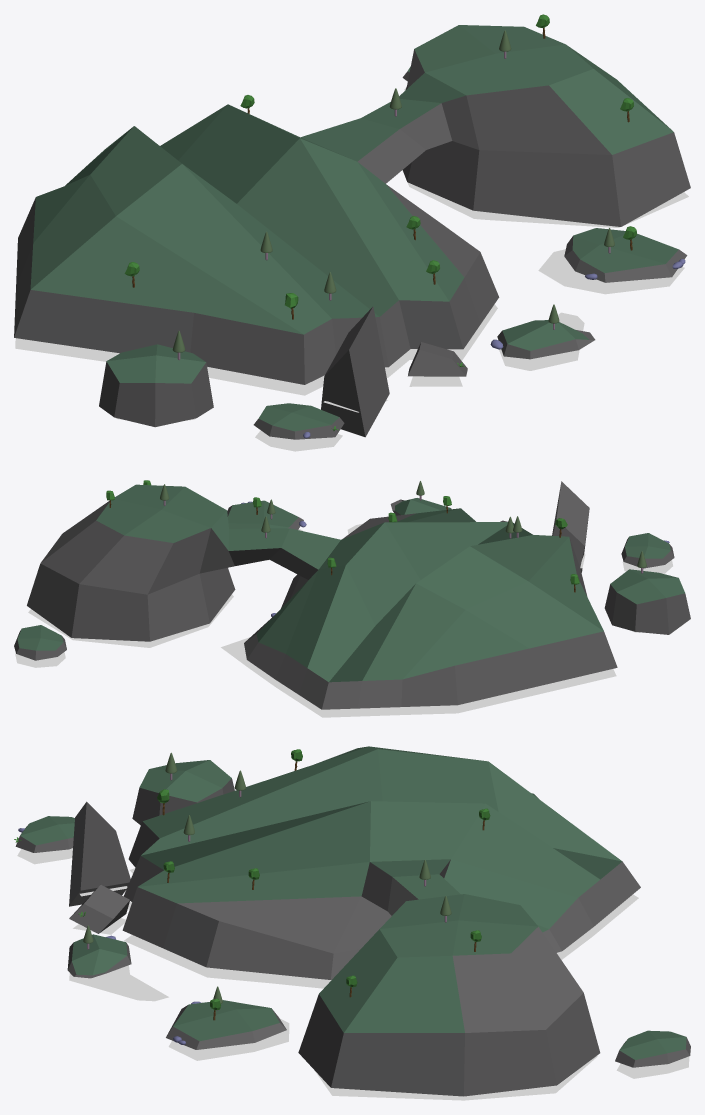
File: island5.glb
The picture shows the model from 3 angles, top to bottom: view 1: azimuth 30°, elevation 25°; view 2: azimuth 150°, elevation 25°; view 3: azimuth 270°, elevation 25°; orthographic projection. The views are drawn at different scales.
Parts seen in each view (by area): view 1: island5, island5__hit; view 2: island5, island5__hit; view 3: island5, island5__hit.
Boxes of the visible parts, left/top/right/bottom form: island5: left=14, top=25, right=690, bottom=439; island5__hit: left=15, top=87, right=688, bottom=451; island5: left=14, top=481, right=690, bottom=709; island5__hit: left=15, top=523, right=672, bottom=717; island5: left=15, top=746, right=690, bottom=1096; island5__hit: left=17, top=848, right=689, bottom=1100.
Bounding box in the file's own units: 103 × 25.85 × 94.85.
